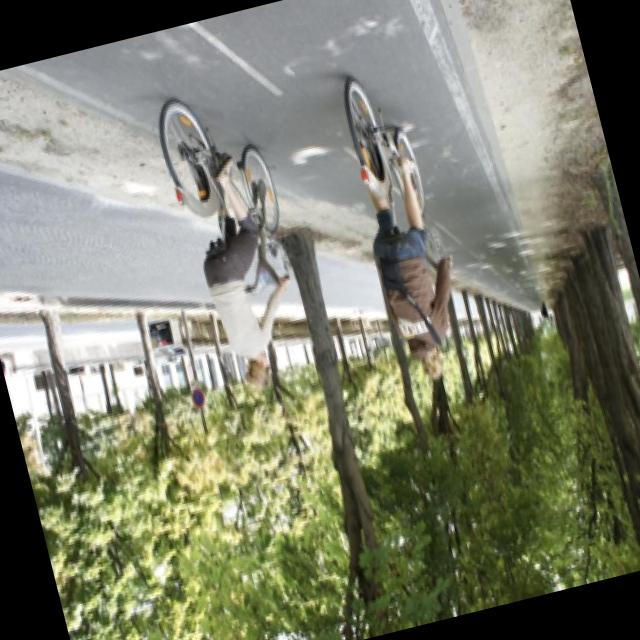bareface: (242, 348, 282, 404), (416, 340, 452, 386)
